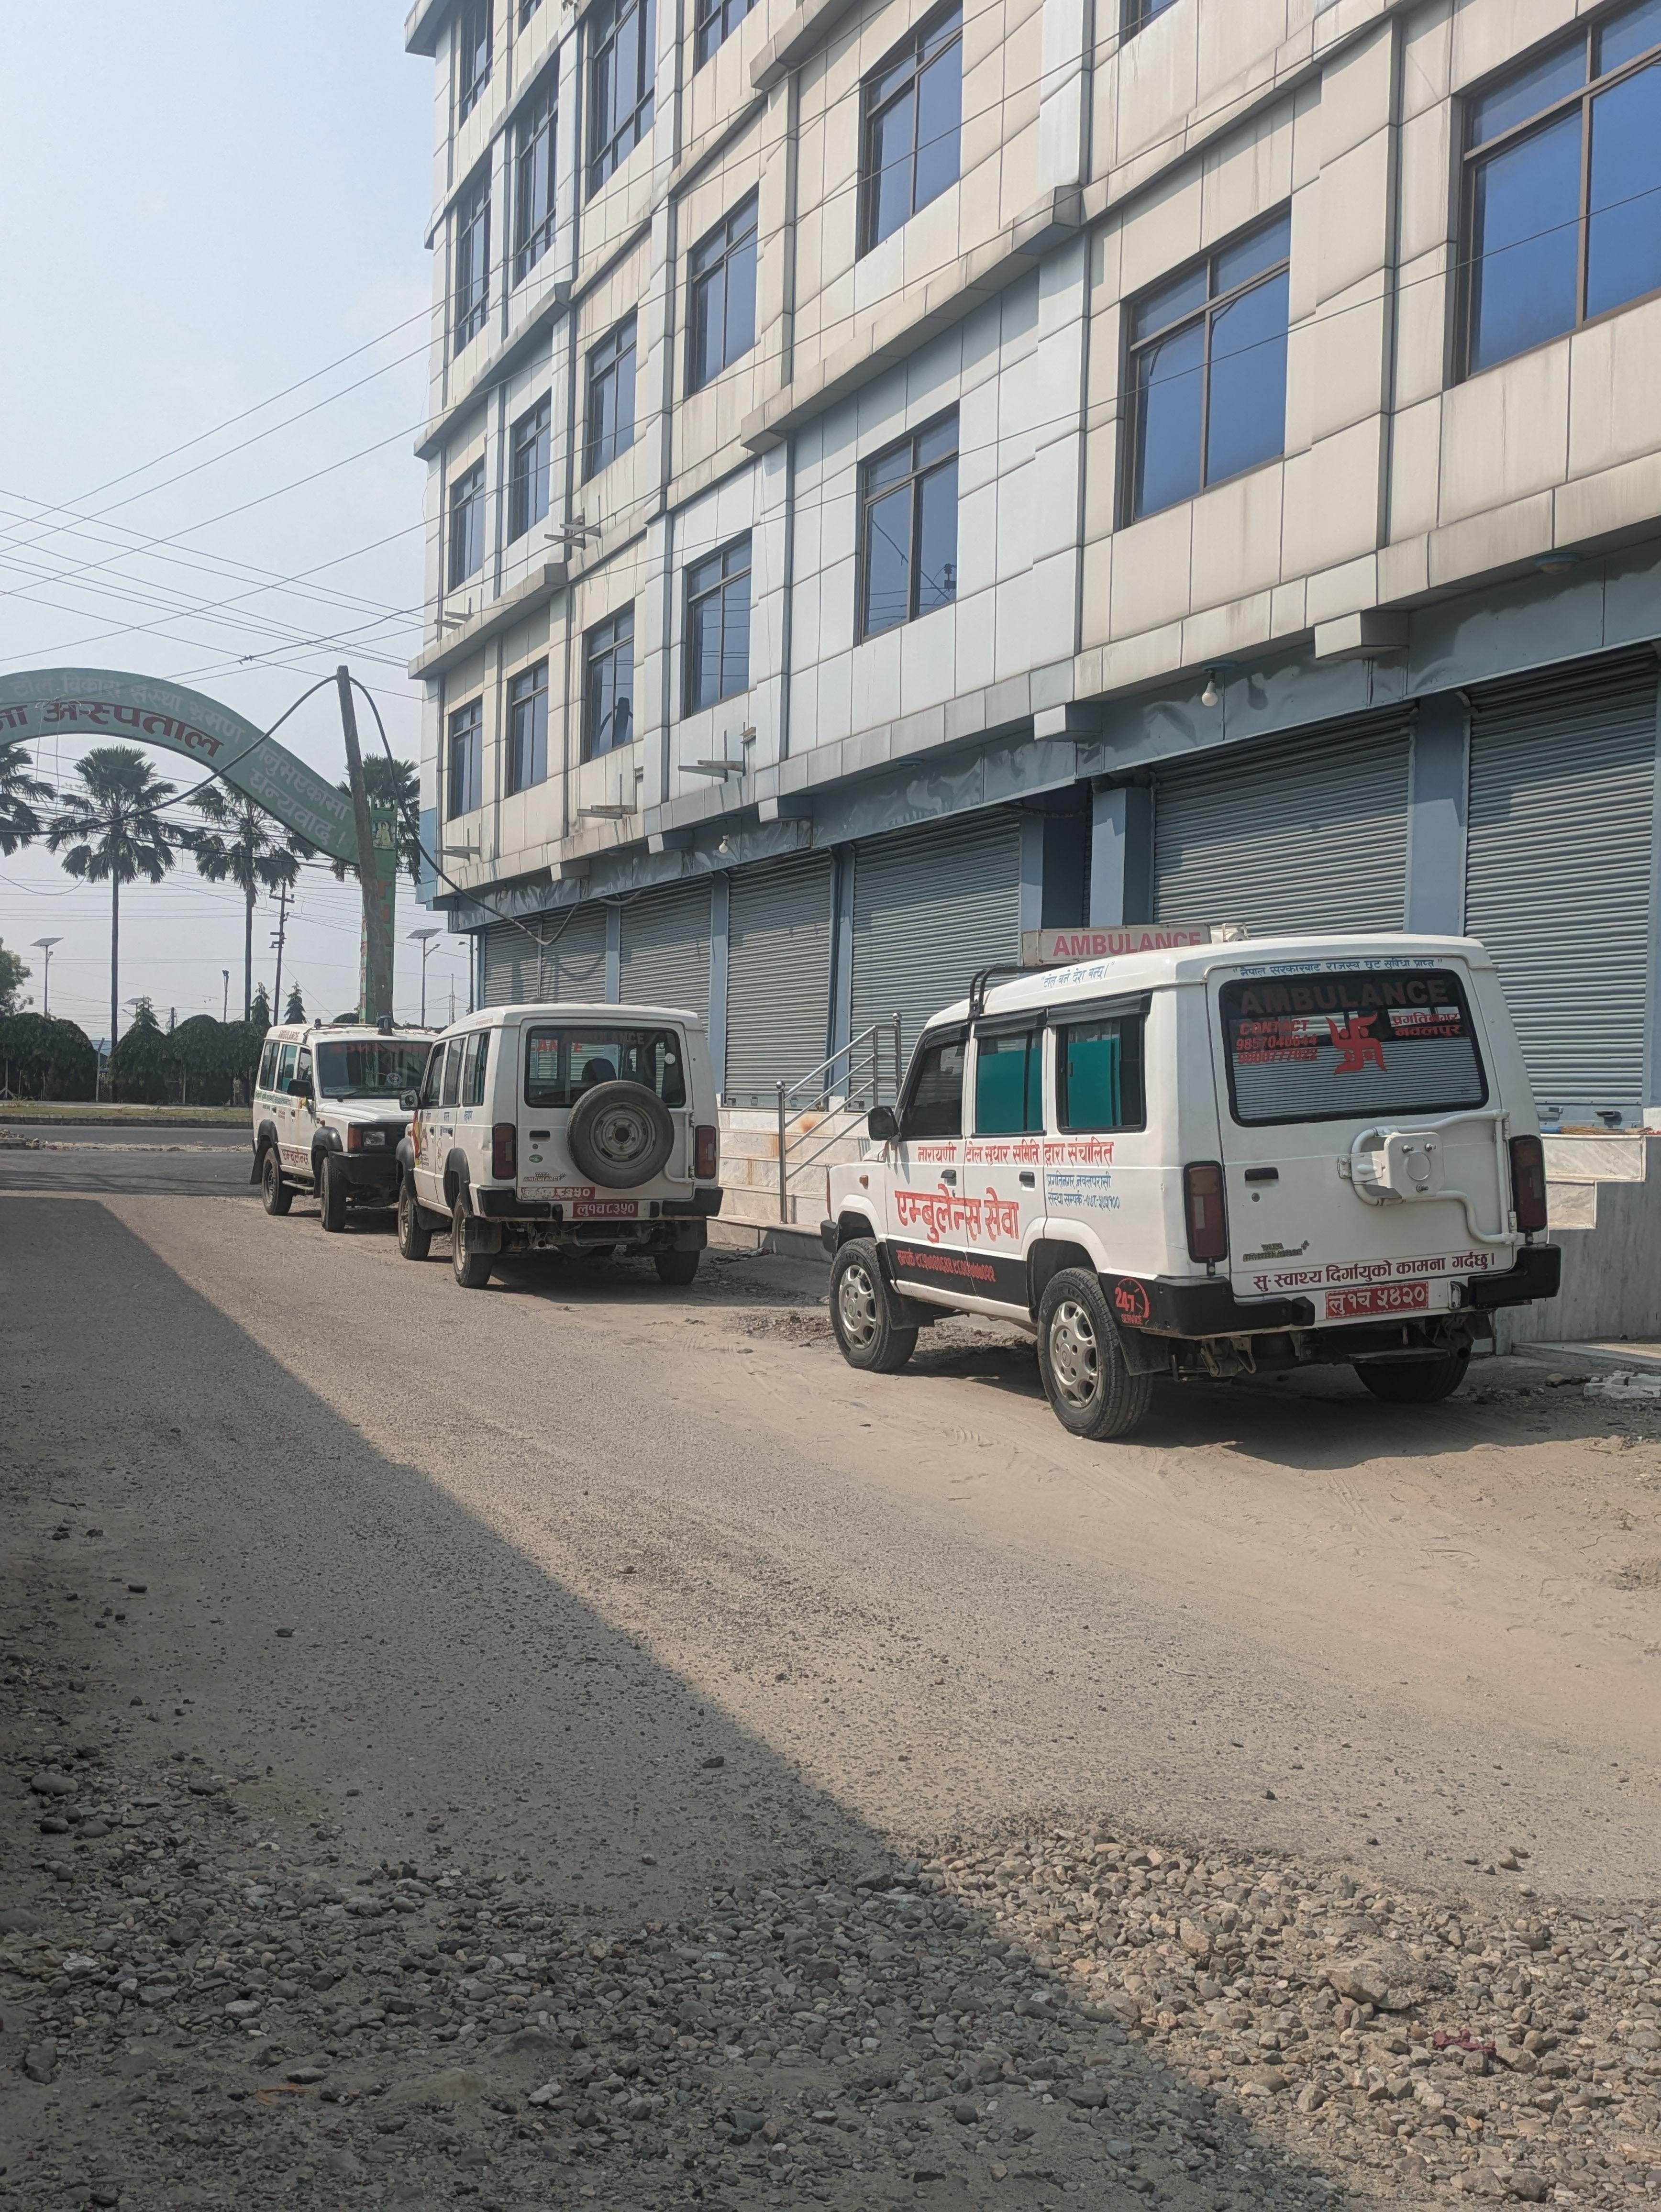ambulance: (818, 911, 1567, 1458), (393, 1000, 748, 1307), (237, 1014, 476, 1233)
